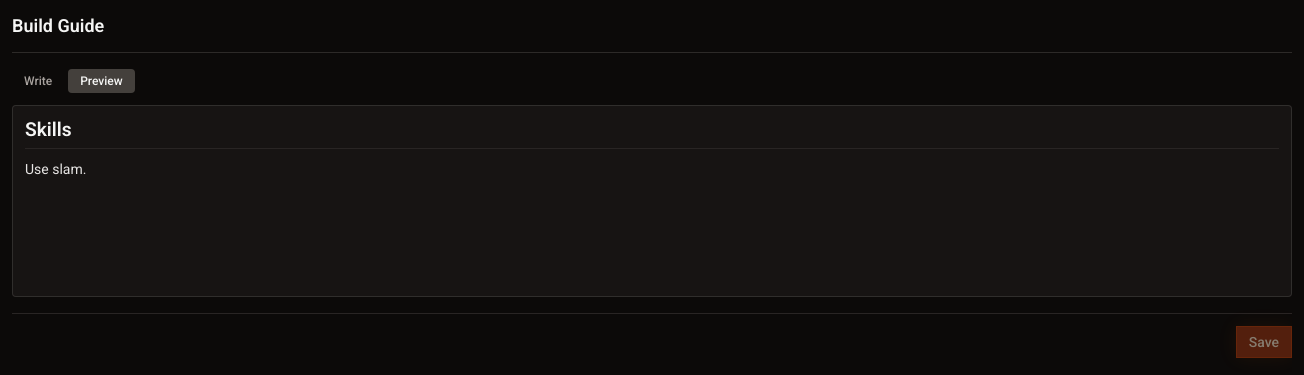
it: NoteEditor › preview mode › switches back to write mode when Write tab is clicked
The width and height of the screenshot is (1304, 375).
Click the button "Preview".
click(101, 81)  # box 68,69 -> 135,93
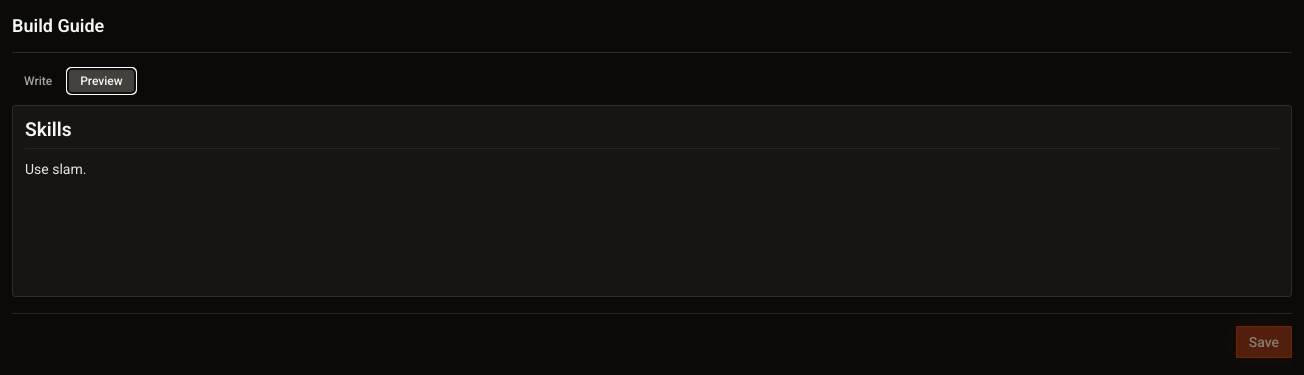
Click the button "Write".
click(38, 81)  # box 12,69 -> 64,93
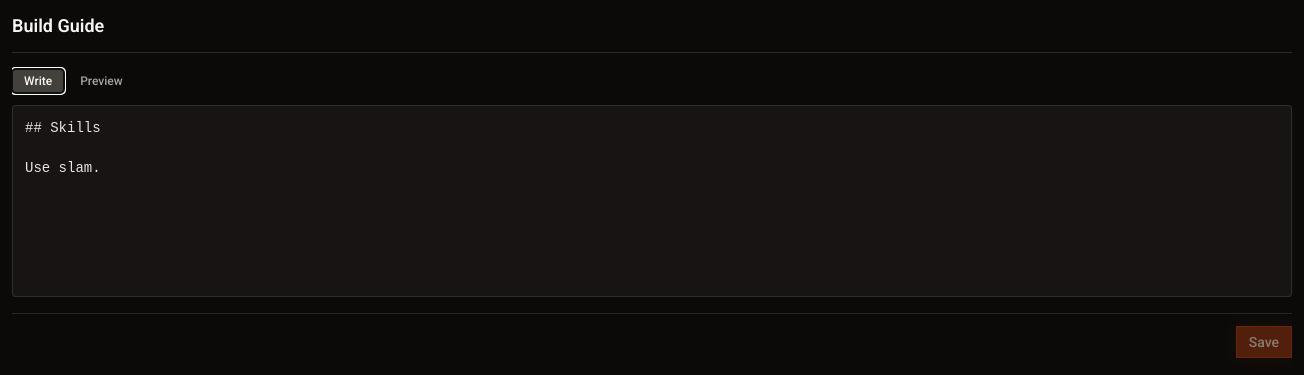
Check: the text box with placeholder "Write your note in markdown..." is shown, box 12,105 -> 1292,297
